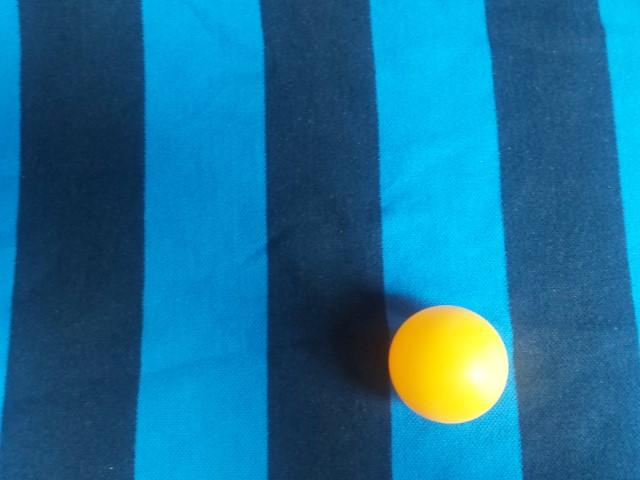oball: (122, 52, 256, 181)
